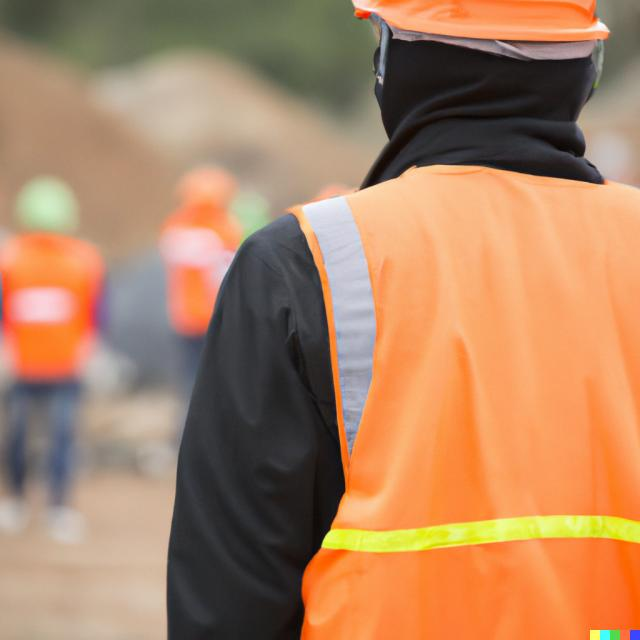Reflective-Jacket: (272, 142, 637, 640), (0, 234, 104, 389)
Safety-Helmet: (352, 0, 614, 46), (10, 171, 86, 237)
